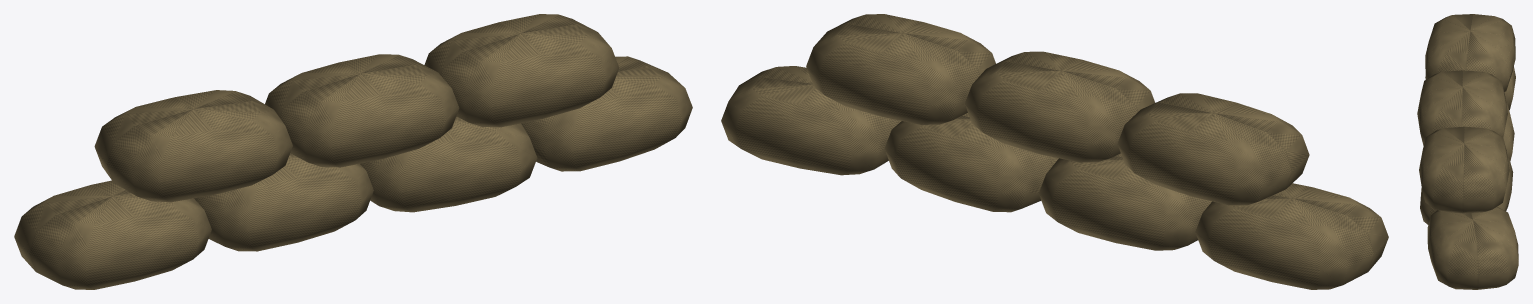
Rendered from sandbag_row.glb.
3 renders of one model, left to right at view 1: azimuth 30°, elevation 25°; view 2: azimuth 150°, elevation 25°; view 3: azimuth 270°, elevation 25°, orthographic. The views are drawn at different scales.
Visible parts, largest first — view 1: sandbag_row; view 2: sandbag_row; view 3: sandbag_row.
Part boxes in pixels (x1=…): sandbag_row: x1=14, y1=14, x2=692, y2=289; sandbag_row: x1=721, y1=14, x2=1388, y2=289; sandbag_row: x1=1417, y1=14, x2=1518, y2=289.
Bounding box in the file's own units: 2.02 × 0.42 × 0.3802.
1 material, 1 textured.
